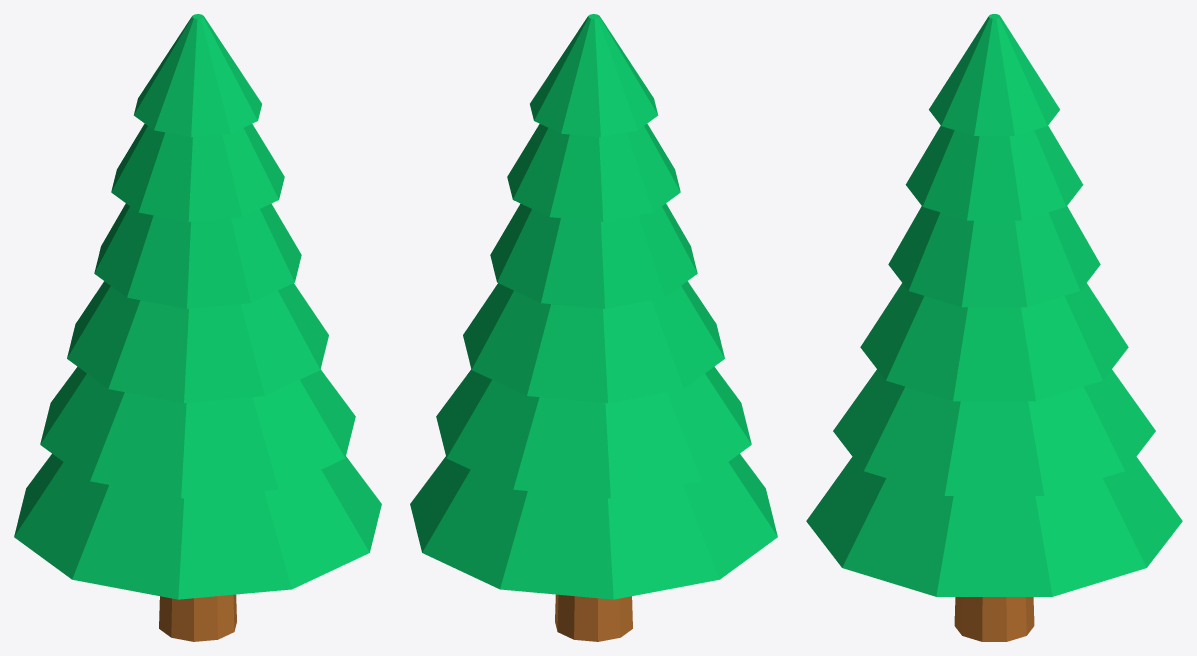
Rendered from Pine Tree 2.fbx.
3 views of the same model, side by side, from view 1: azimuth 30°, elevation 25°; view 2: azimuth 150°, elevation 25°; view 3: azimuth 270°, elevation 25° (orthographic).
Parts seen in each view (by area): view 1: Cylinder.001; view 2: Cylinder.001; view 3: Cylinder.001.
Boxes of the visible parts, left/top/right/bottom form: Cylinder.001: left=14, top=14, right=381, bottom=641; Cylinder.001: left=410, top=14, right=777, bottom=641; Cylinder.001: left=806, top=14, right=1182, bottom=641.
Bounding box in the file's own units: 2.62 × 4.93 × 2.76.
